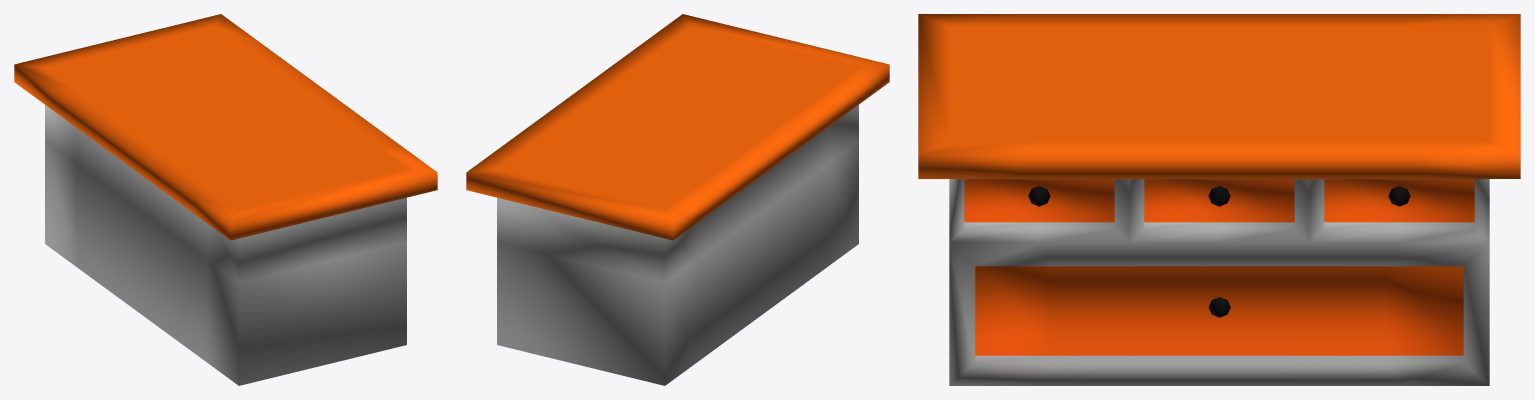
File: MesaEng.fbx
3 views of the same model, side by side, from view 1: azimuth 30°, elevation 25°; view 2: azimuth 150°, elevation 25°; view 3: azimuth 270°, elevation 25° (orthographic). The views are drawn at different scales.
Parts seen in each view (by area): view 1: MesaBio; view 2: MesaBio; view 3: MesaBio.
Part boxes in pixels (x1=…): MesaBio: x1=14, y1=14, x2=437, y2=385; MesaBio: x1=466, y1=14, x2=889, y2=385; MesaBio: x1=918, y1=14, x2=1520, y2=385.
Size of the model in its own units: 53.18 by 43.2 by 96.37.
